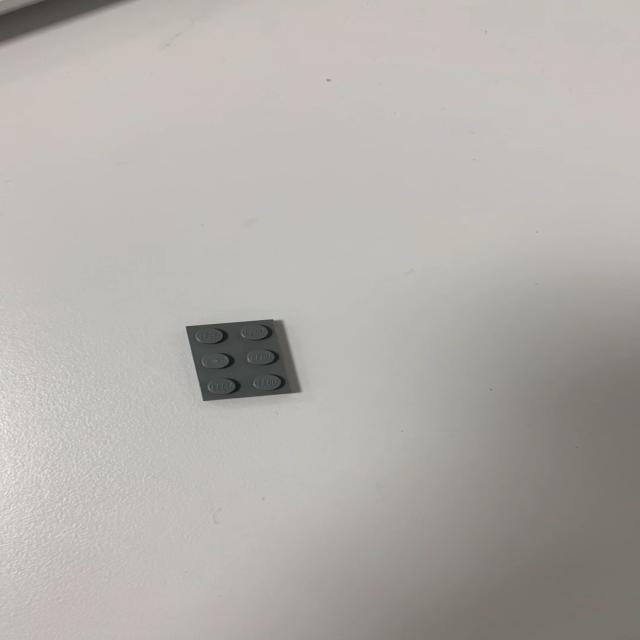C3x2x0: (184, 318, 300, 401)
